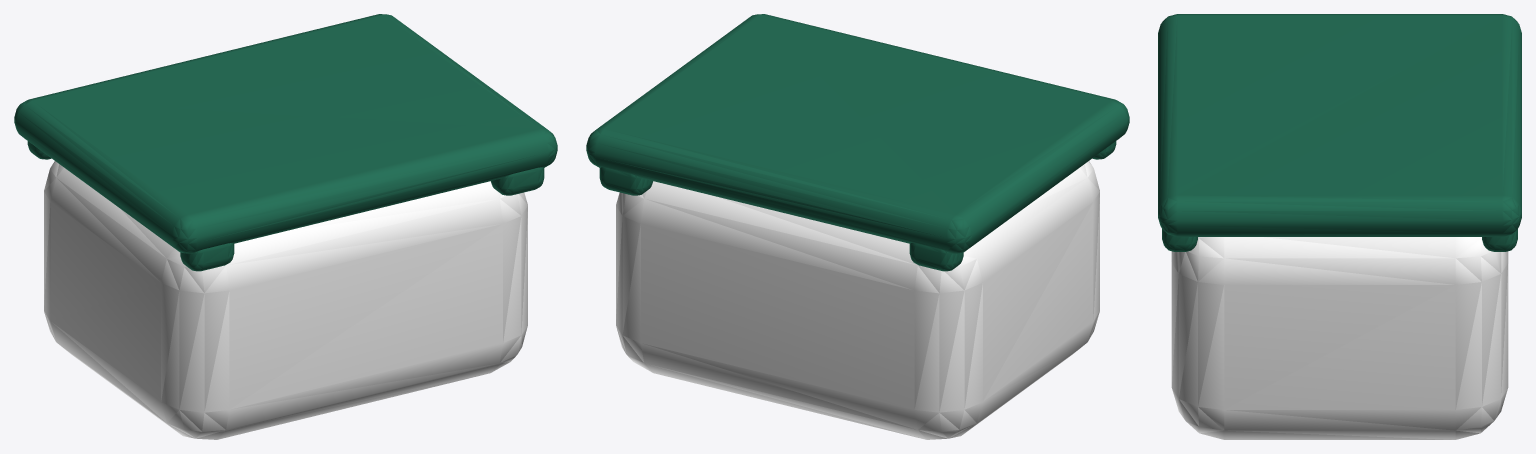
The model's file is tub.glb.
3 renders of one model, left to right at view 1: azimuth 30°, elevation 25°; view 2: azimuth 150°, elevation 25°; view 3: azimuth 270°, elevation 25°, orthographic. The views are drawn at different scales.
Visible parts, largest first — view 1: body, cap; view 2: body, cap; view 3: cap, body.
Part boxes in pixels (left/top/right/bottom): body: left=44, top=161, right=527, bottom=439; cap: left=14, top=14, right=557, bottom=271; body: left=616, top=161, right=1099, bottom=439; cap: left=586, top=14, right=1129, bottom=271; cap: left=1158, top=14, right=1521, bottom=251; body: left=1171, top=237, right=1508, bottom=439.
Size of the model in its own units: 0.84 by 0.52 by 0.66.
